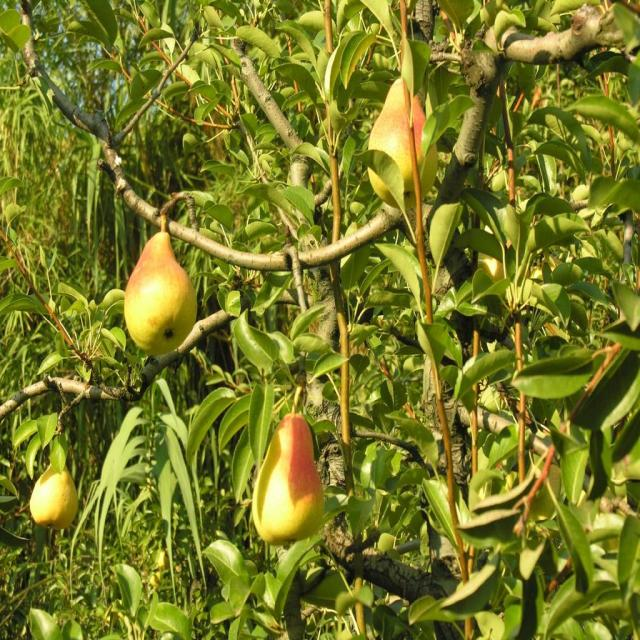pear: (249, 413, 324, 547), (121, 231, 200, 355), (368, 78, 438, 214), (31, 455, 80, 531)
